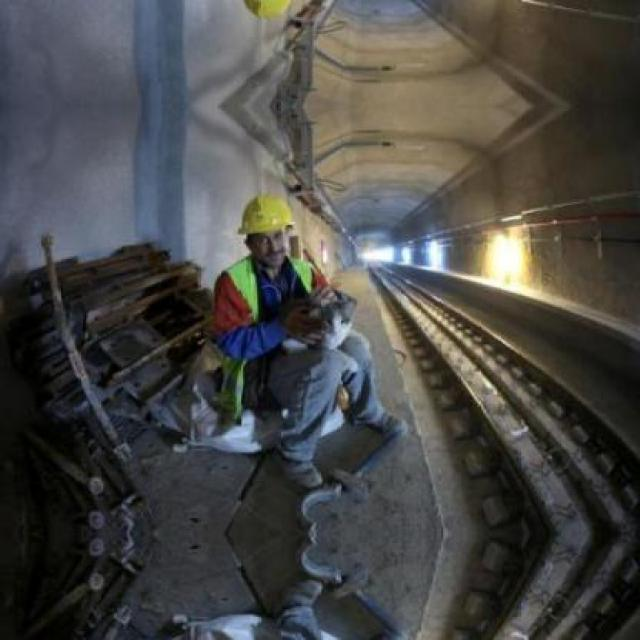Reflective-Jacket: (203, 253, 339, 356)
Safety-Helmet: (228, 187, 304, 248)
